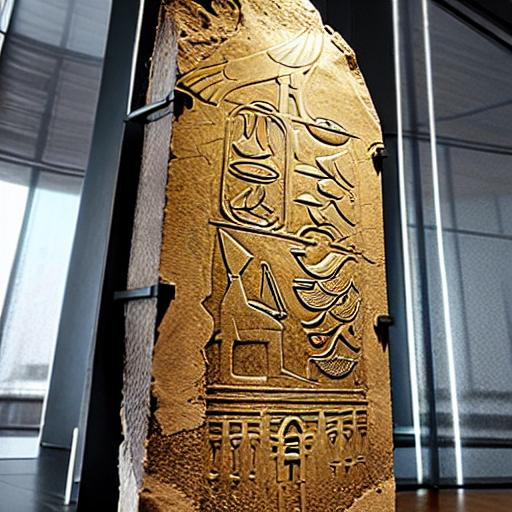Stela of king Snefero: (170, 38, 393, 512)
